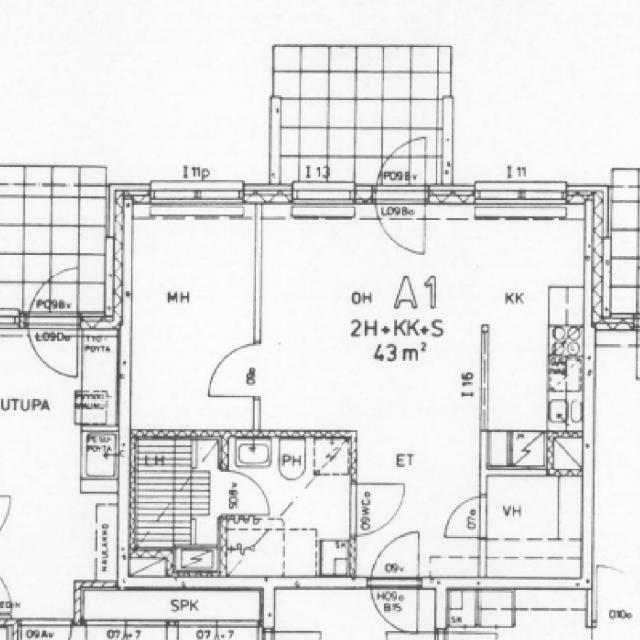door: (376, 184, 427, 257), (376, 132, 427, 204), (350, 484, 408, 537), (371, 528, 420, 590), (371, 578, 420, 640), (206, 346, 262, 396), (218, 472, 272, 516)
